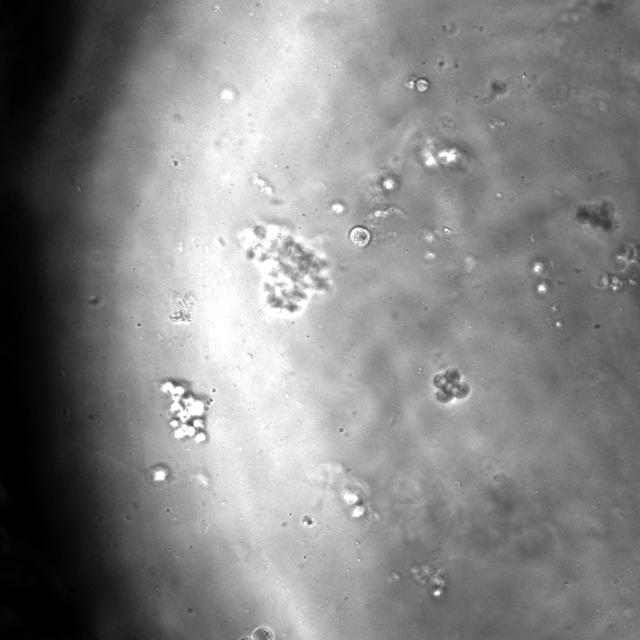organoid: (239, 222, 331, 319), (161, 381, 206, 441), (593, 243, 639, 292), (409, 562, 449, 601), (575, 199, 617, 232), (433, 368, 470, 403), (528, 257, 552, 296), (169, 291, 197, 323), (349, 225, 371, 248), (402, 75, 430, 93), (146, 463, 171, 483), (239, 626, 274, 639)
